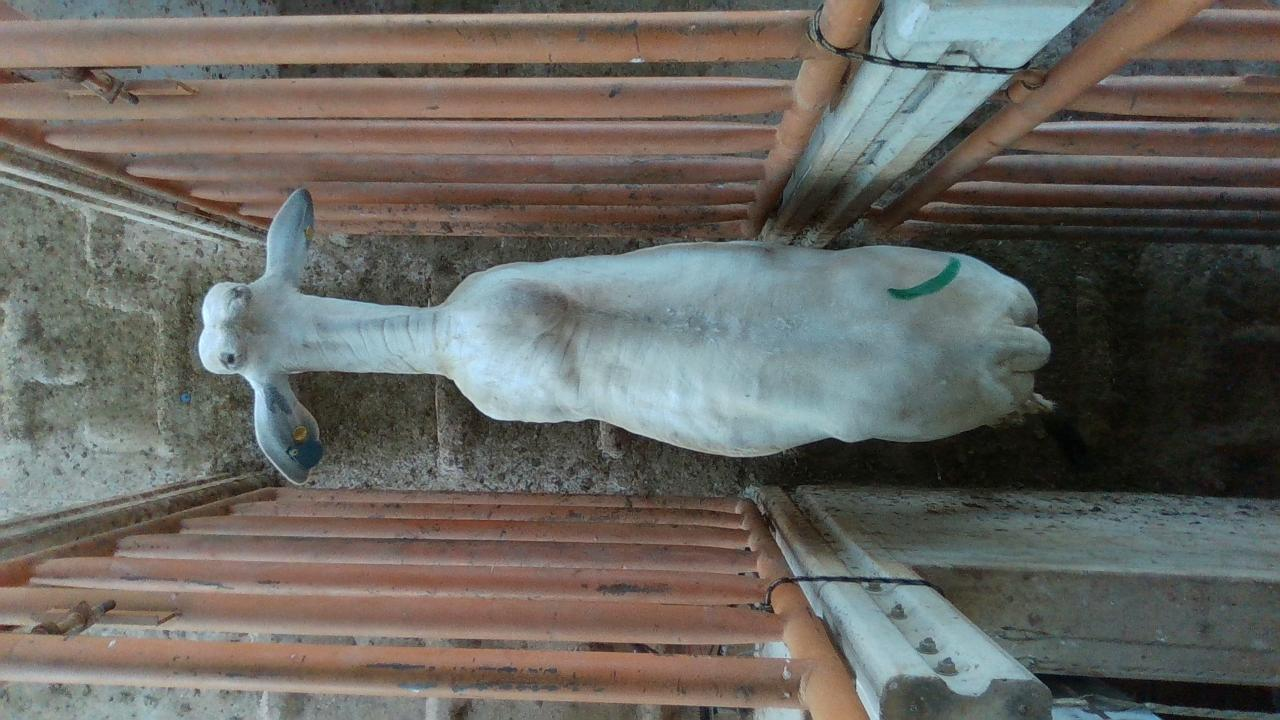cattle: (195, 186, 1059, 485)
